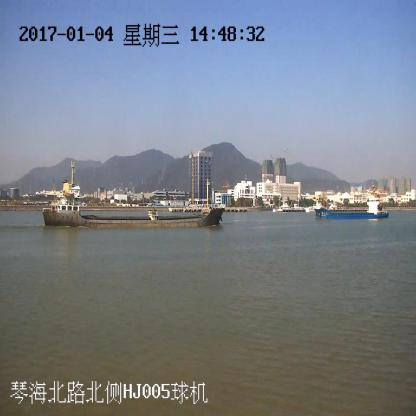Bulk Carrier: (42, 164, 222, 228), (316, 196, 389, 219)
